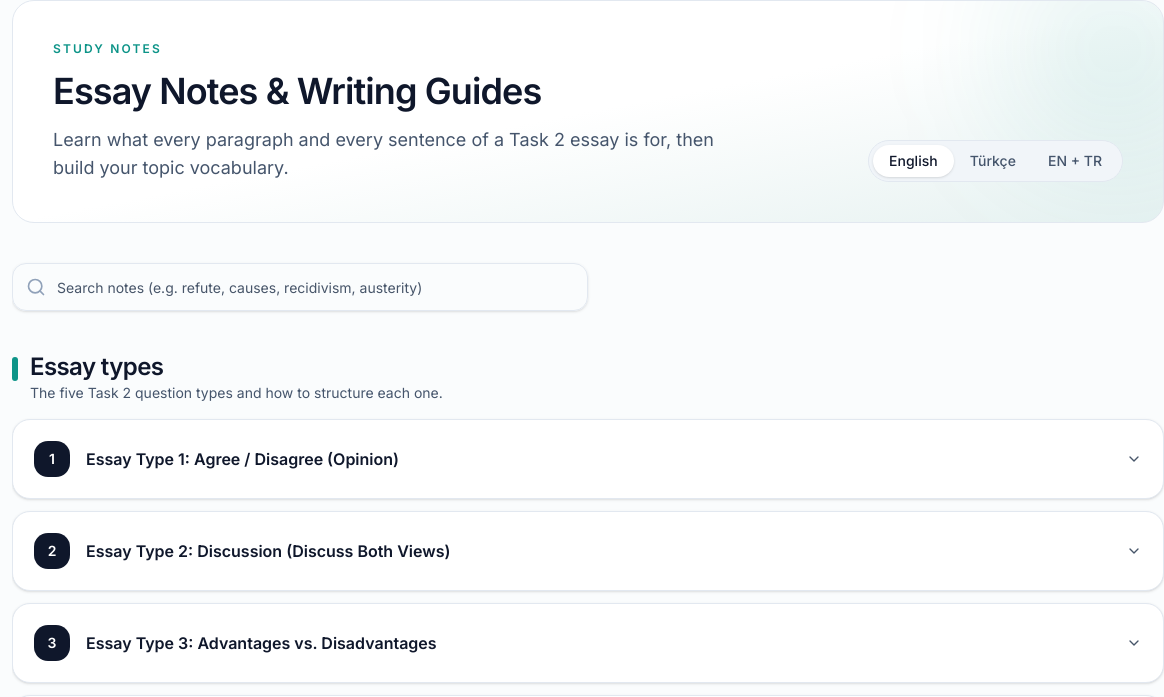
Test: NotesBrowser topic modules › searches vocabulary words across modules
Type "austerity" into the search field labelled "Search notes".
click(300, 287); type("austerity")  # box [12, 263, 588, 311]
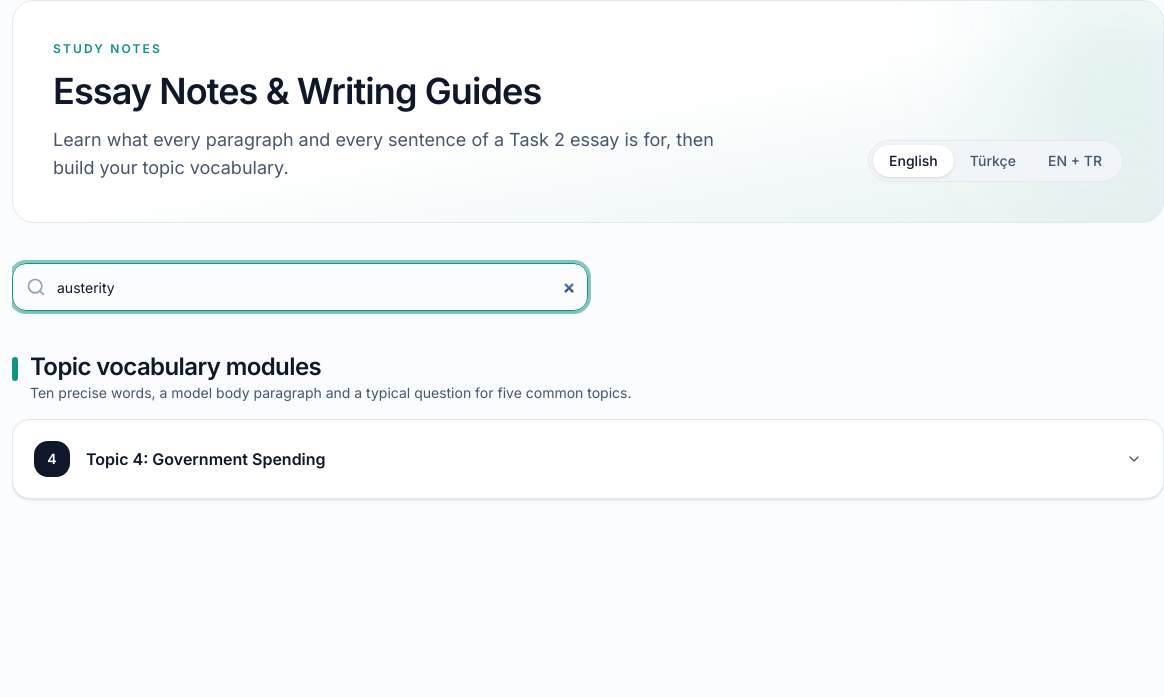
Expected: the number of buttons "4 Topic 4: Government Spending" is 1, [33, 420, 1143, 498]
Now no headings "Essay type" are shown
